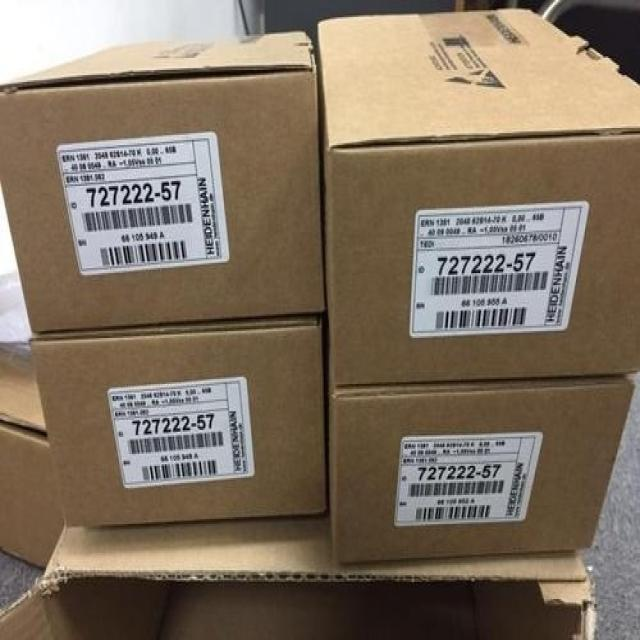box: (317, 6, 639, 387), (0, 32, 329, 332), (325, 318, 638, 565), (0, 513, 598, 638), (30, 318, 326, 529), (0, 341, 66, 570)
